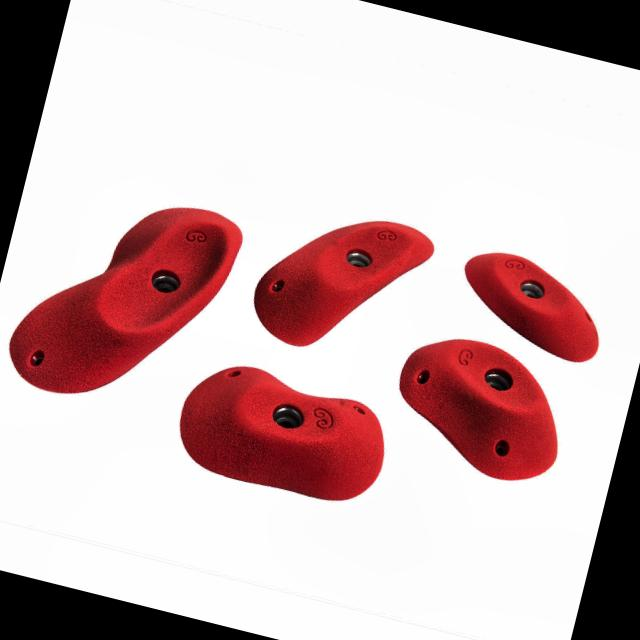Hold: (0, 172, 251, 429), (244, 188, 442, 372), (166, 353, 396, 510), (384, 320, 580, 490), (446, 241, 614, 366)
